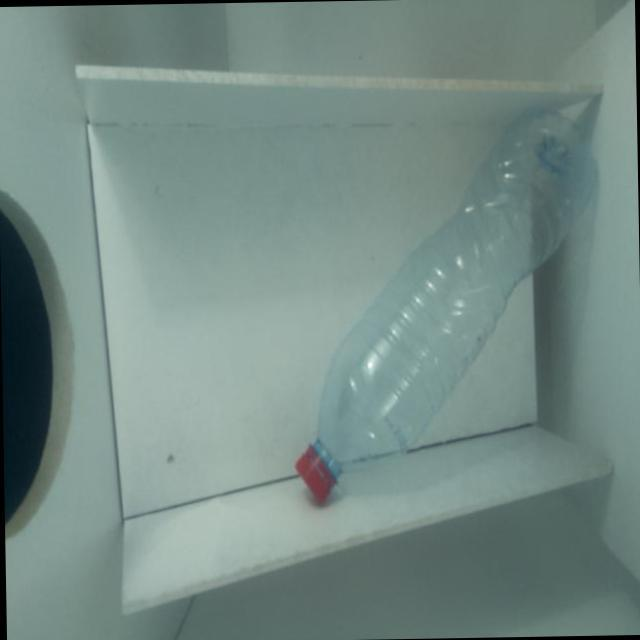good: (284, 100, 606, 507)
